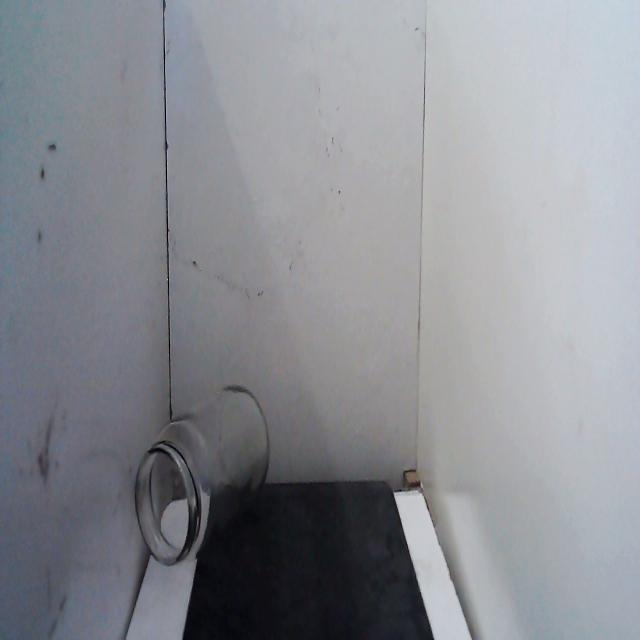vidro: (132, 376, 274, 574)
